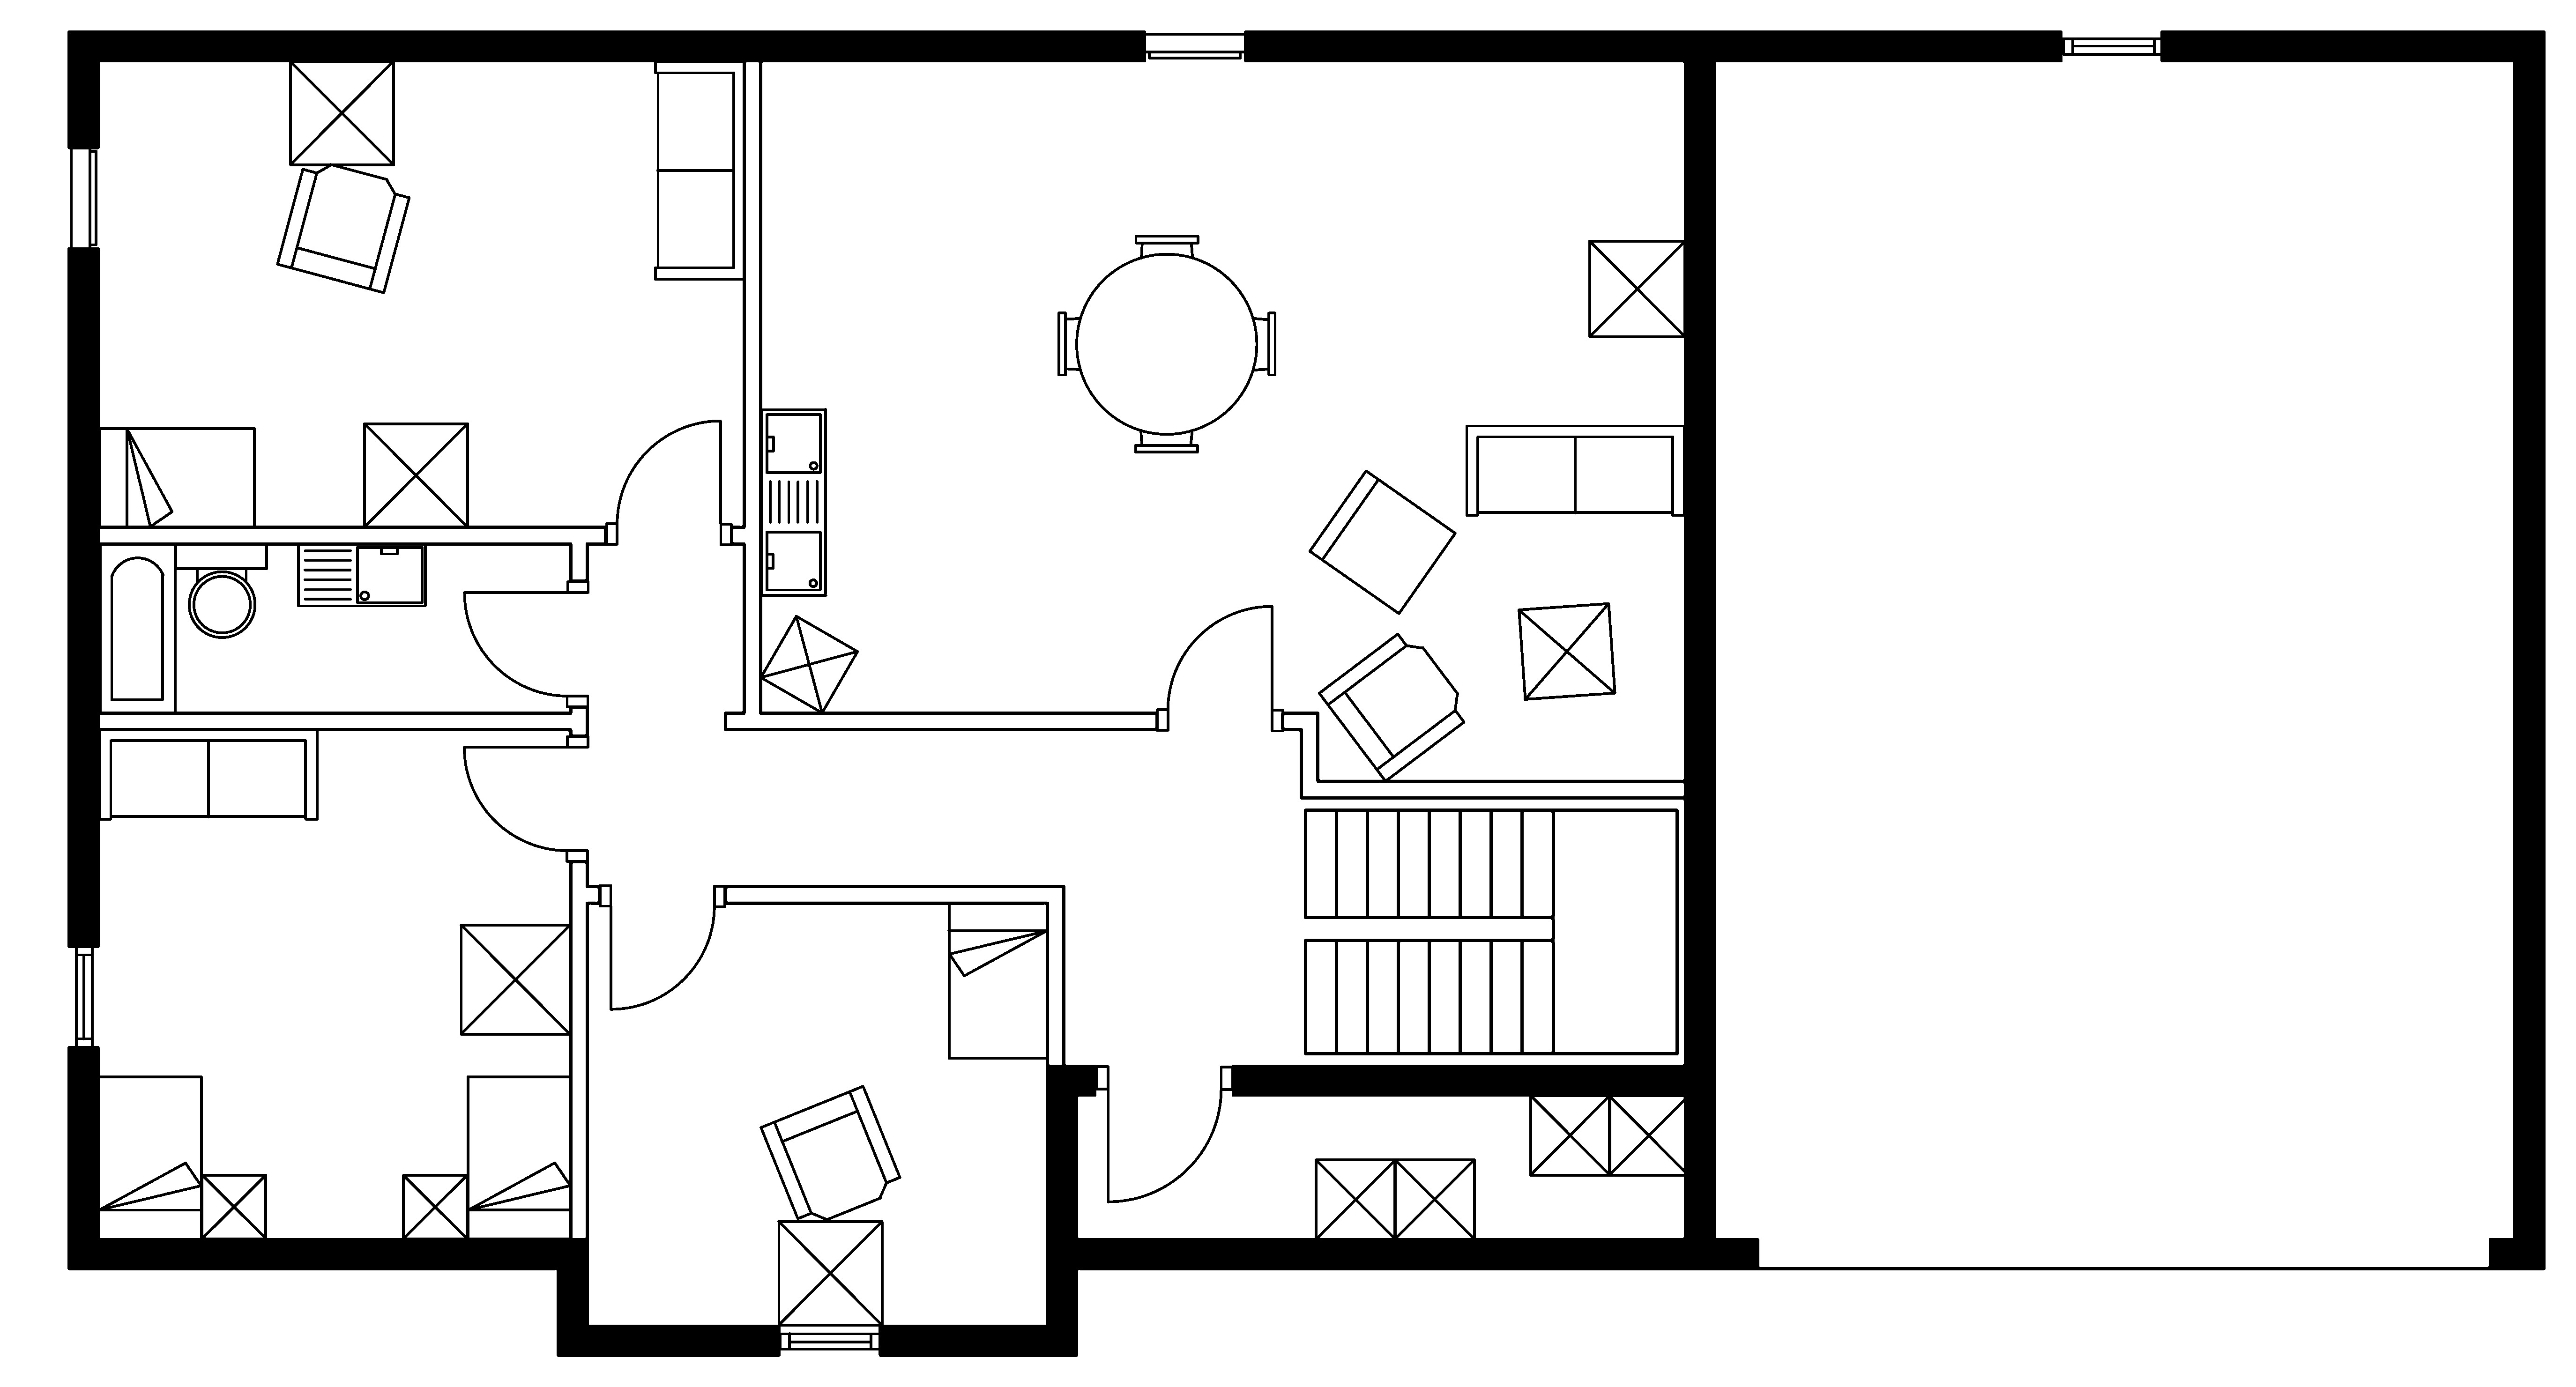armchair: (1317, 632, 1466, 782), (758, 1083, 902, 1221), (275, 162, 412, 294)
bed: (96, 1074, 203, 1240), (465, 1074, 572, 1240), (97, 425, 256, 530), (946, 900, 1049, 1059)
coffee_table: (458, 922, 572, 1035), (362, 422, 470, 530), (287, 58, 395, 166), (776, 1220, 883, 1327), (758, 613, 859, 714), (1517, 601, 1616, 702), (1587, 239, 1686, 338), (1527, 1093, 1613, 1177), (1314, 1156, 1397, 1240), (1607, 1093, 1691, 1177), (1392, 1156, 1476, 1240), (200, 1172, 268, 1240), (401, 1172, 470, 1240)
large_sink: (173, 541, 268, 639)
large_sofa: (653, 60, 746, 282), (1464, 424, 1686, 516), (97, 728, 319, 820)
round_table: (1056, 234, 1276, 454)
sink: (296, 541, 427, 608)
small_sofa: (1307, 468, 1457, 615)
tub: (97, 541, 178, 714)
twin_sink: (758, 407, 828, 598)
